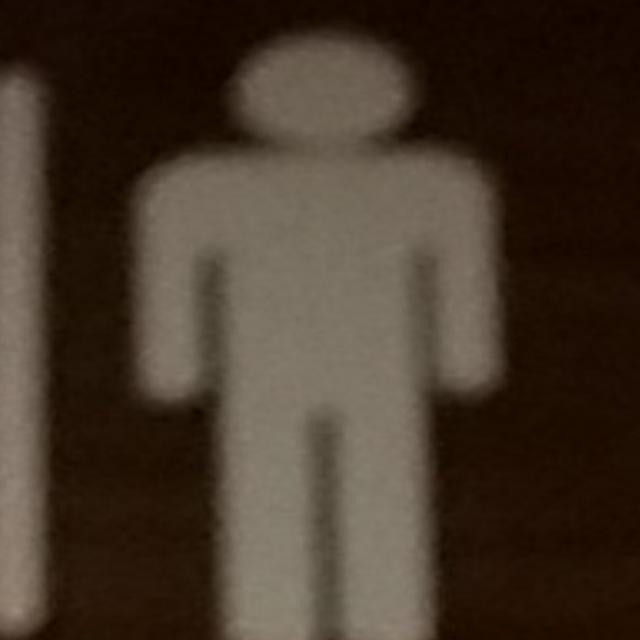wc nam: (133, 31, 502, 639)
